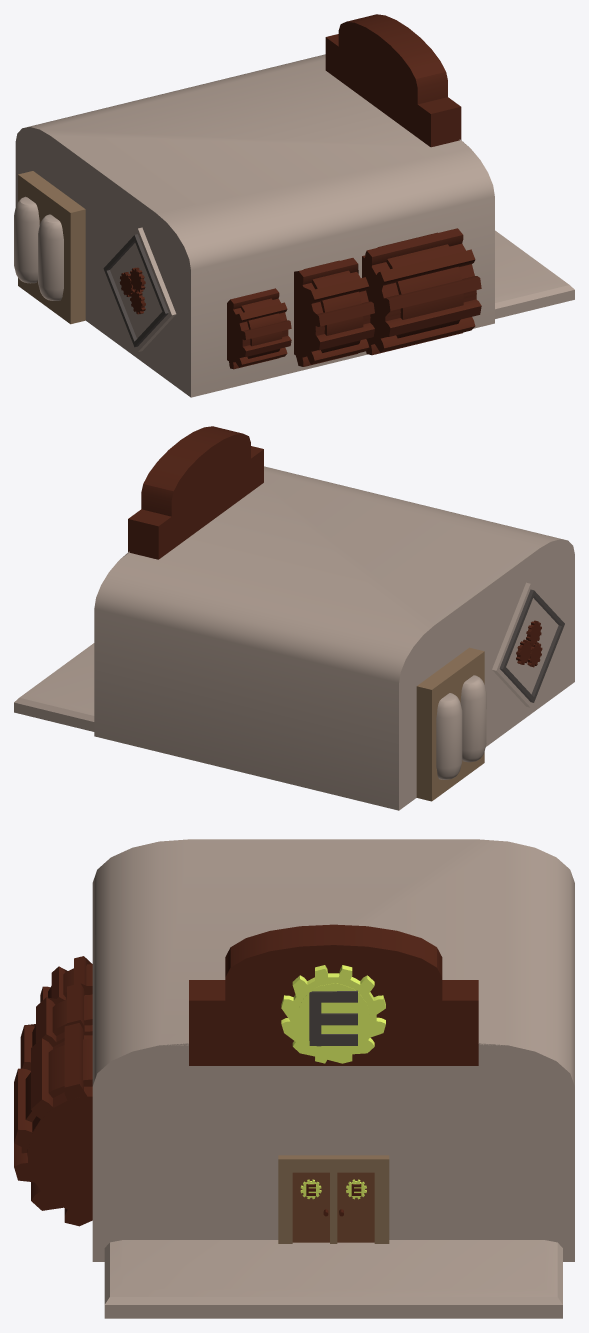
Rendered from Building9.fbx.
3 renders of one model, top to bottom at view 1: azimuth 30°, elevation 25°; view 2: azimuth 150°, elevation 25°; view 3: azimuth 270°, elevation 25°, orthographic. The views are drawn at different scales.
Parts seen in each view (by area): view 1: electricFact; view 2: electricFact; view 3: electricFact.
Part boxes in pixels (x1,y1,x2,y2): electricFact: (14,14,574,397); electricFact: (14,426,574,810); electricFact: (14,839,574,1318).
Bounding box in the file's own units: 2182 × 1151 × 1842.
